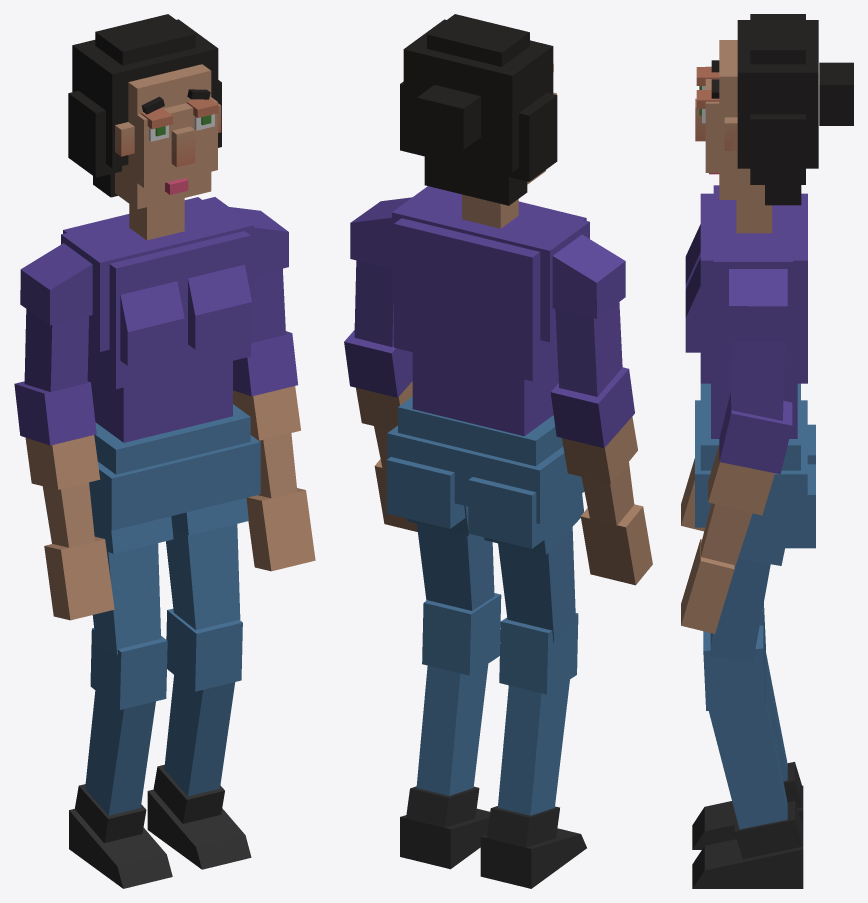
Rendered from scene_placeholder_character.fbx.
The picture shows the model from 3 angles, left to right: view 1: azimuth 30°, elevation 25°; view 2: azimuth 150°, elevation 25°; view 3: azimuth 270°, elevation 25°; orthographic projection. The views are drawn at different scales.
Parts seen in each view (by area): view 1: ao:polySurface12; view 2: ao:polySurface12; view 3: ao:polySurface12.
Boxes of the visible parts, left/top/right/bottom form: ao:polySurface12: left=14, top=14, right=315, bottom=888; ao:polySurface12: left=344, top=14, right=652, bottom=888; ao:polySurface12: left=681, top=14, right=853, bottom=888.
Bounding box in the file's own units: 0.5331 × 1.66 × 0.3159.
